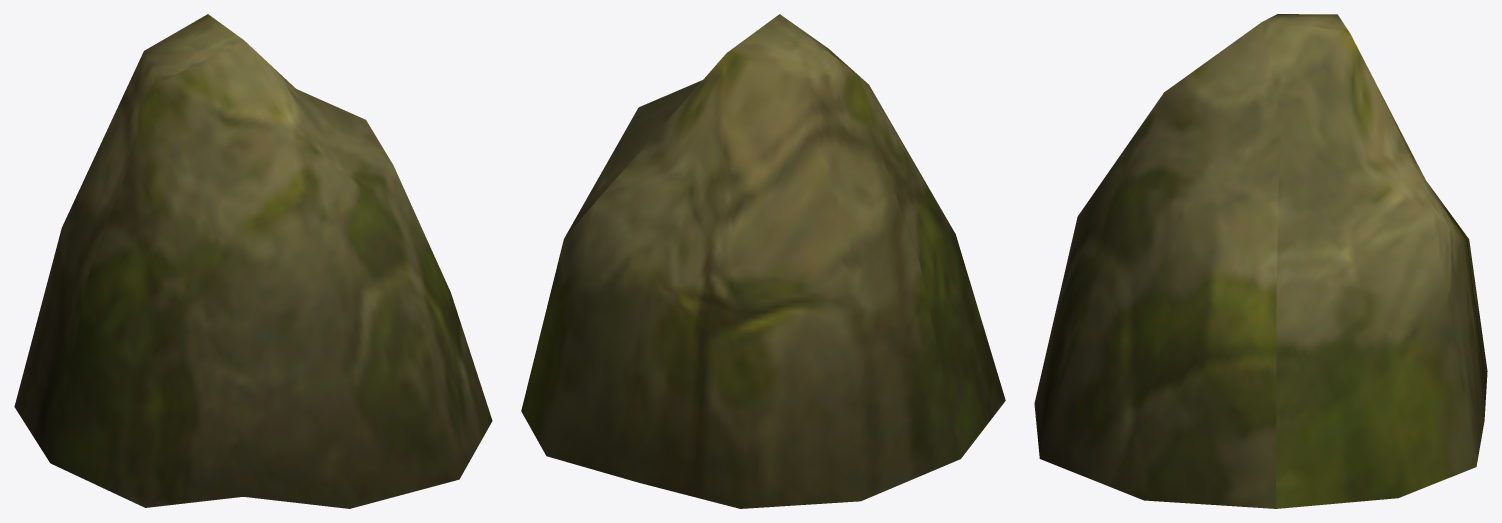
Rendered from lumina_natural_rock_medium_p2.FBX.
3 renders of one model, left to right at view 1: azimuth 30°, elevation 25°; view 2: azimuth 150°, elevation 25°; view 3: azimuth 270°, elevation 25°, orthographic. The views are drawn at different scales.
Visible parts, largest first — view 1: lumina_natural_rock_medium_p2; view 2: lumina_natural_rock_medium_p2; view 3: lumina_natural_rock_medium_p2.
Part boxes in pixels (left/top/right/bottom): lumina_natural_rock_medium_p2: left=14, top=14, right=492, bottom=508; lumina_natural_rock_medium_p2: left=521, top=14, right=1005, bottom=508; lumina_natural_rock_medium_p2: left=1034, top=14, right=1487, bottom=508.
Size of the model in its own units: 2.41 by 2.25 by 2.4.
